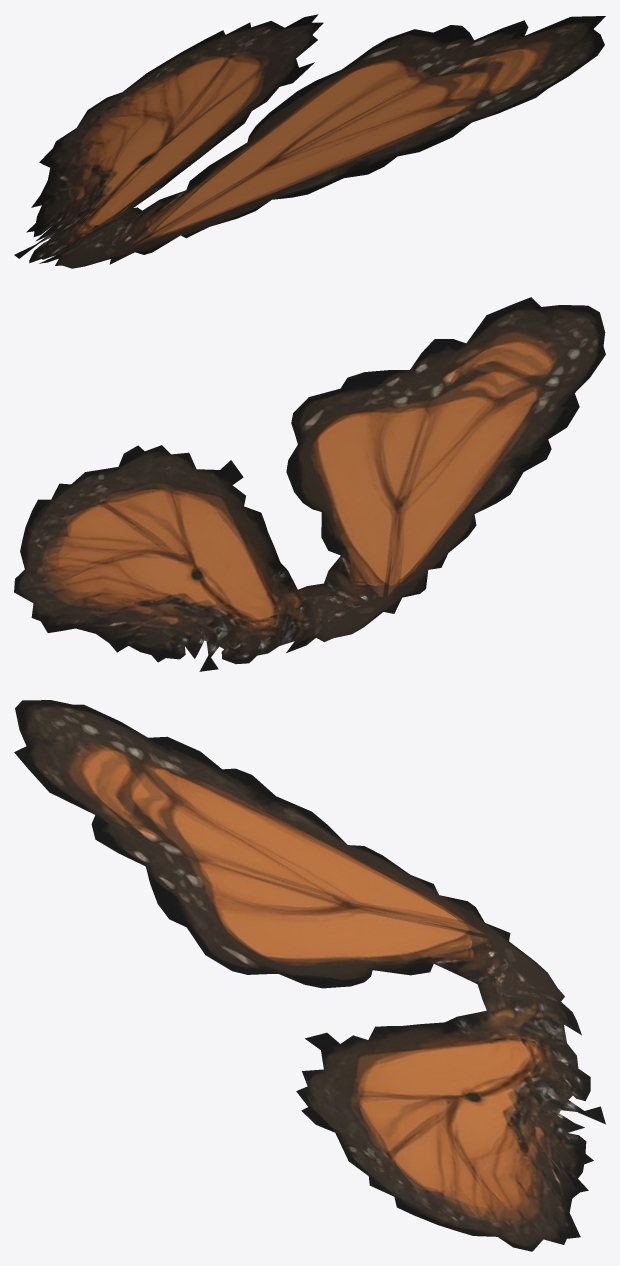
The model's file is mariposaAlaIzq.obj.
The picture shows the model from 3 angles, top to bottom: view 1: azimuth 90°, elevation 25°; view 2: azimuth 150°, elevation 25°; view 3: azimuth 270°, elevation 25°; orthographic projection. The views are drawn at different scales.
Visible parts, largest first — view 1: ala_izq; view 2: ala_izq; view 3: ala_izq.
Part boxes in pixels (box(x1,y1,x2,y2)): ala_izq: box(14, 14, 605, 268); ala_izq: box(14, 297, 605, 671); ala_izq: box(14, 700, 605, 1251).
Bounding box in the file's own units: 0.0483 × 0.0252 × 0.0418.
1 material, 1 textured.
